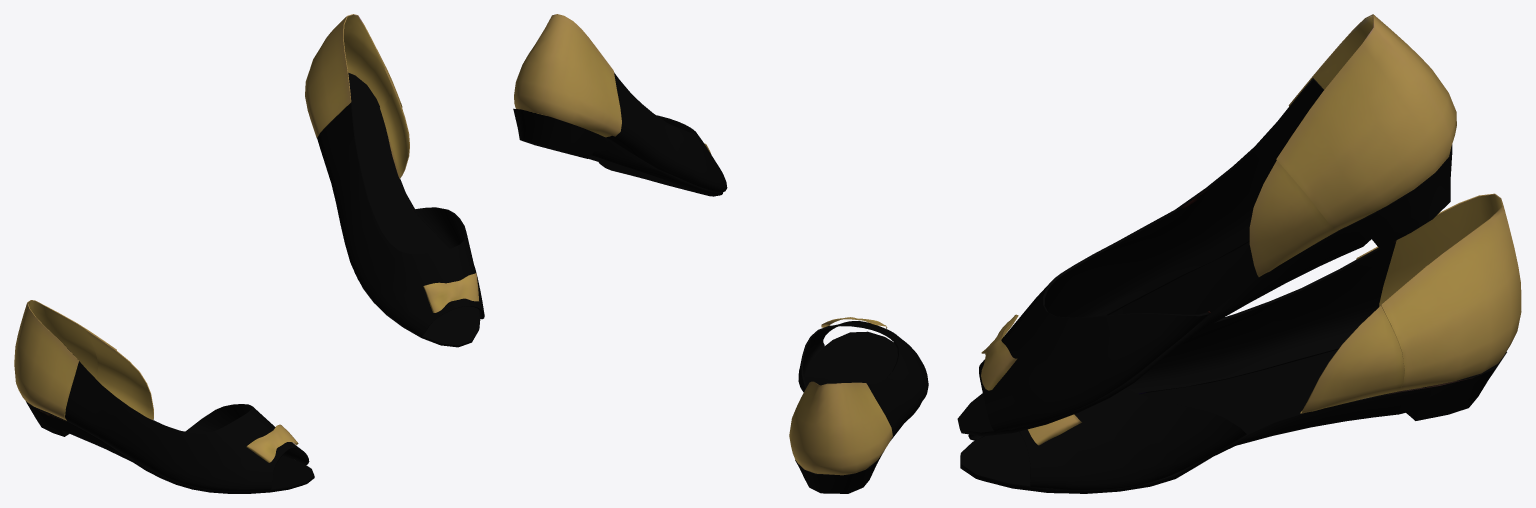
The model's file is BellyF.fbx.
3 views of the same model, side by side, from view 1: azimuth 30°, elevation 25°; view 2: azimuth 150°, elevation 25°; view 3: azimuth 270°, elevation 25° (orthographic). The views are drawn at different scales.
Visible parts, largest first — view 1: BellyF; view 2: BellyF; view 3: BellyF.
Boxes of the visible parts, x1,y1,x2,y2 form: BellyF: (14, 14, 484, 493); BellyF: (513, 14, 928, 493); BellyF: (957, 14, 1521, 493).
Size of the model in its own units: 30.66 by 29.88 by 25.14.
